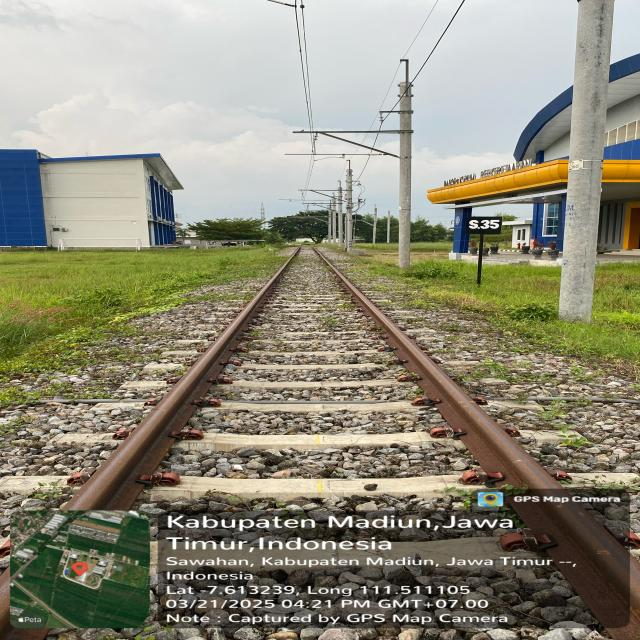rail-detection: (313, 246, 640, 640), (63, 247, 300, 510)
